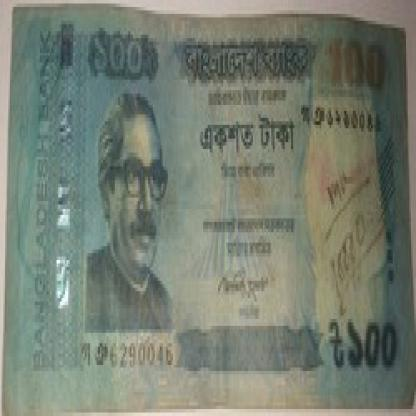one hundred taka: (323, 31, 391, 97), (344, 309, 404, 382), (93, 27, 155, 80)
